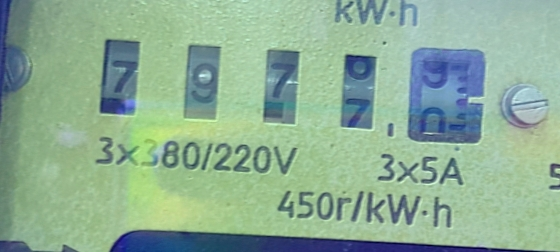0: (416, 102, 451, 141)
7: (266, 60, 298, 103), (108, 57, 139, 101), (342, 96, 373, 132)
9: (187, 61, 222, 107), (420, 55, 452, 91)
screen: (79, 17, 512, 168)
